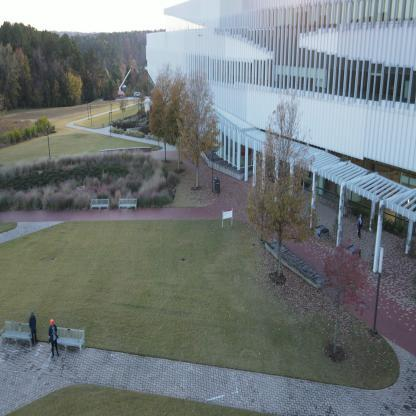Hunt Library: (138, 1, 415, 279)
